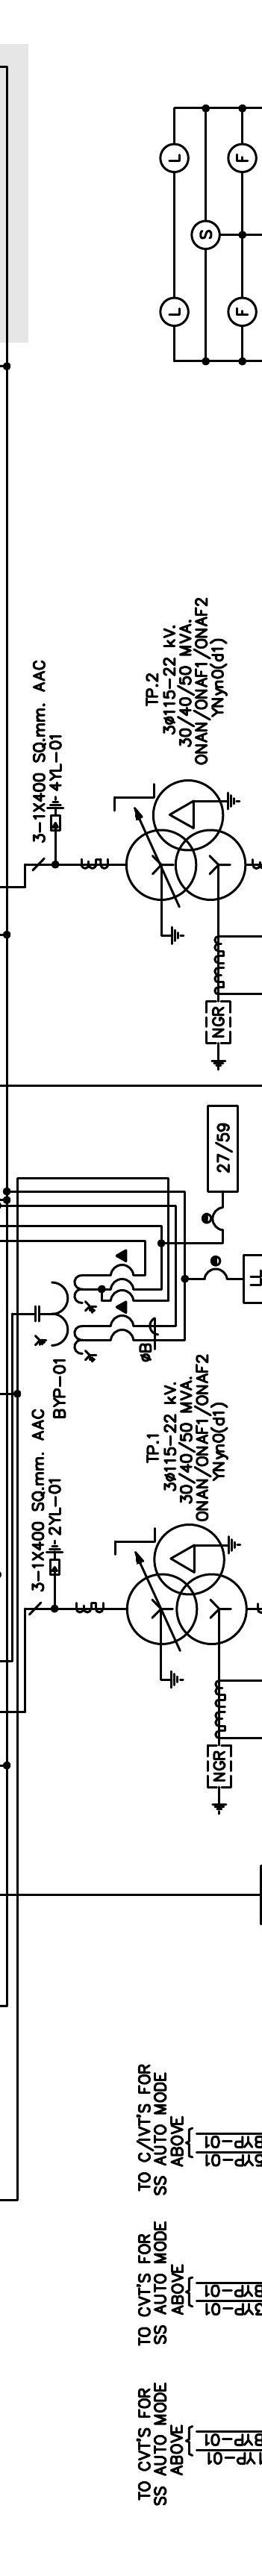11522_tx_ynyn0d1: (125, 1523, 249, 1646), (125, 779, 247, 904)
115_cvt_3p: (35, 1273, 97, 1364)
115_la: (46, 795, 66, 831), (44, 1539, 64, 1575)
NGR_future: (204, 1000, 232, 1071), (206, 1745, 232, 1815)
